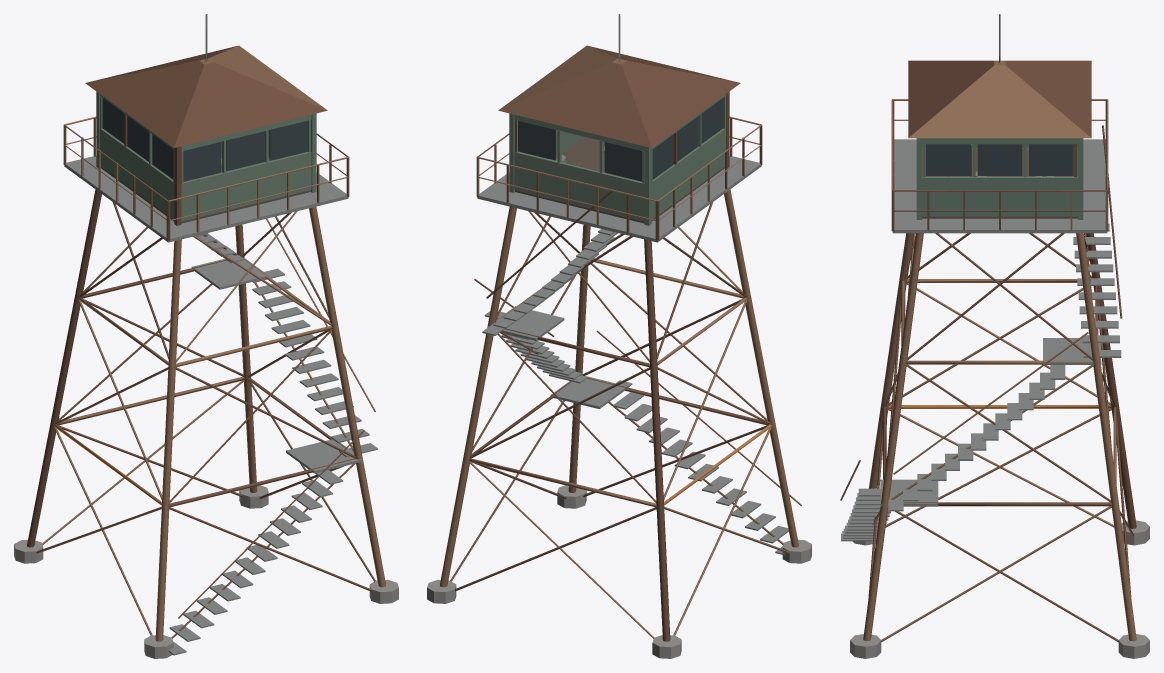
Rendered from table-lookout.glb.
The picture shows the model from 3 angles, left to right: view 1: azimuth 30°, elevation 25°; view 2: azimuth 150°, elevation 25°; view 3: azimuth 270°, elevation 25°; orthographic projection. The views are drawn at different scales.
Parts seen in each view (by area): view 1: table-lookout; view 2: table-lookout; view 3: table-lookout.
Boxes of the visible parts, x1,y1,x2,y2 form: table-lookout: (14,14,398,658); table-lookout: (427,14,811,658); table-lookout: (840,14,1149,658).
Bounding box in the file's own units: 6.7 × 14.33 × 6.92.
